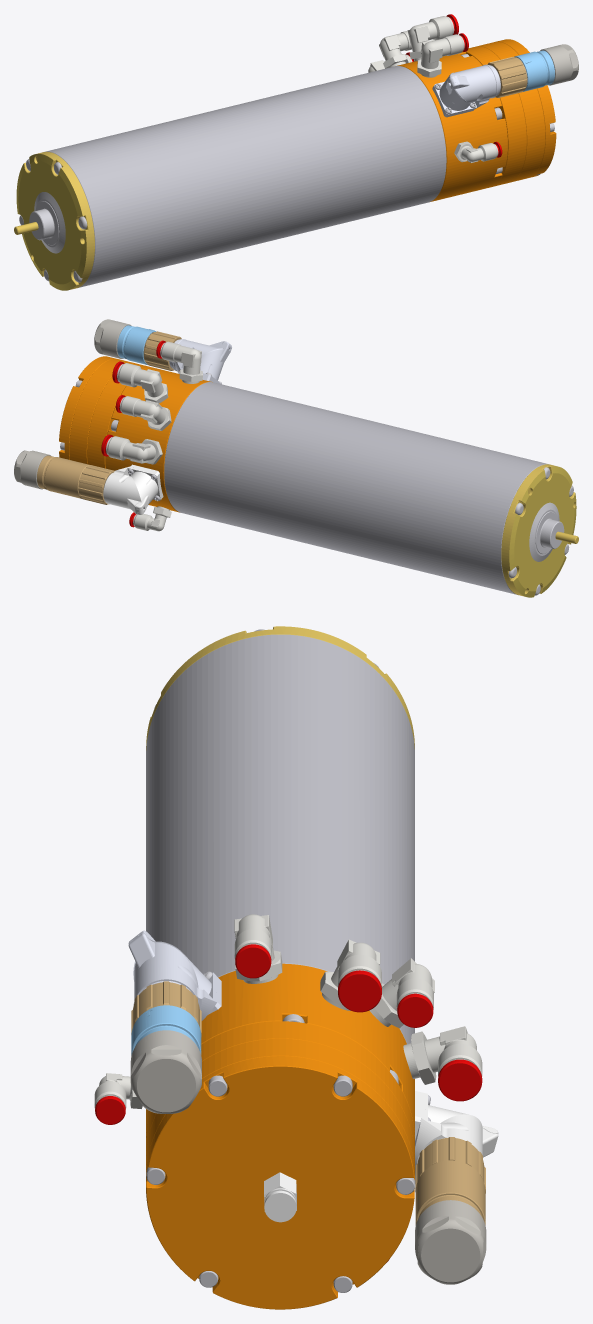
The model's file is 100_xx1_xxx_xxx_xxx_ASD-Cx.glb.
3 renders of one model, top to bottom at view 1: azimuth 30°, elevation 25°; view 2: azimuth 150°, elevation 25°; view 3: azimuth 270°, elevation 25°, orthographic. The views are drawn at different scales.
Parts seen in each view (by area): view 1: Node8, Node7, Node5, Node15, Node1, Node3, Node4, Node9, Node10, Node14, Node12, Node13; view 2: Node8, Node5, Node15, Node1, Node7, Node12, Node2, Node4, Node10, Node13, Node9, Node3 (+2 smaller); view 3: Node8, Node5, Node13, Node7, Node1, Node12, Node11, Node2, Node3, Node10, Node9, Node4 (+1 smaller).
Part boxes in pixels (box(x1,y1,x2,y2)): Node8: box(45, 66, 446, 287); Node7: box(397, 51, 507, 201); Node5: box(465, 39, 556, 187); Node15: box(16, 153, 86, 290); Node1: box(368, 30, 498, 162); Node3: box(432, 64, 527, 117); Node4: box(19, 54, 554, 282); Node9: box(14, 151, 94, 289); Node10: box(407, 16, 464, 76); Node14: box(514, 50, 554, 91); Node12: box(487, 56, 527, 97); Node13: box(540, 44, 578, 85); Node8: box(164, 382, 548, 594); Node5: box(59, 356, 152, 468); Node15: box(509, 466, 576, 597); Node1: box(106, 345, 202, 531); Node7: box(105, 367, 212, 512); Node12: box(37, 331, 181, 504); Node2: box(103, 464, 163, 514); Node4: box(60, 372, 573, 595); Node10: box(117, 341, 202, 403); Node13: box(14, 319, 131, 489); Node9: box(501, 464, 578, 596); Node3: box(143, 335, 231, 384); Node8: box(146, 634, 414, 1044); Node5: box(146, 1021, 414, 1309); Node13: box(130, 1030, 486, 1284); Node7: box(146, 963, 414, 1137); Node1: box(94, 915, 482, 1109); Node12: box(131, 981, 485, 1225); Node11: box(95, 944, 482, 1262); Node2: box(264, 1091, 498, 1222); Node3: box(128, 930, 420, 1146); Node10: box(234, 914, 381, 1010); Node9: box(146, 626, 414, 750); Node4: box(146, 629, 430, 1292).
Bounding box in the file's own units: 441 × 133 × 150.
